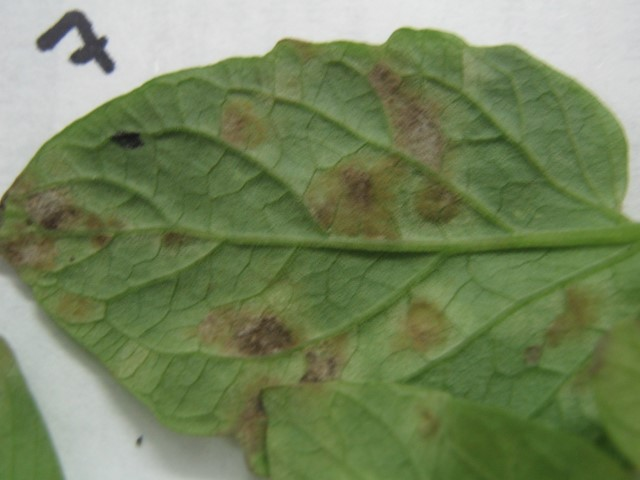negra: (301, 161, 402, 246), (364, 82, 448, 169), (202, 307, 304, 354), (394, 304, 453, 355), (210, 103, 265, 157), (407, 175, 467, 224), (303, 339, 355, 389), (59, 289, 93, 324)
